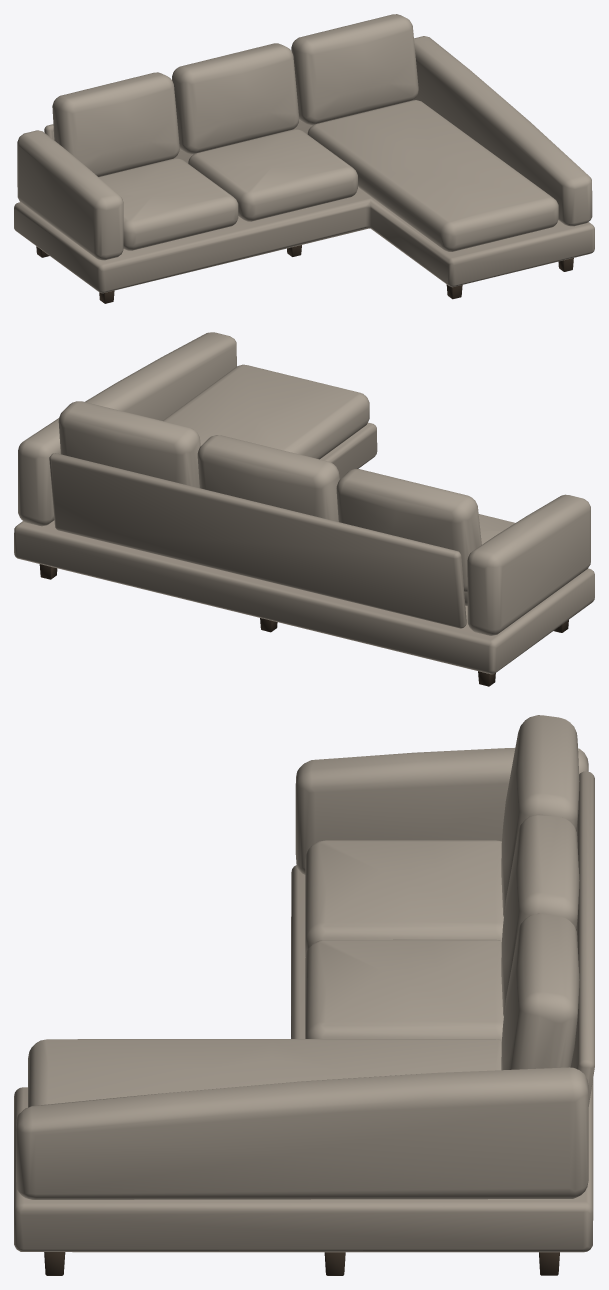
The model's file is sofa-l-shaped.glb.
The picture shows the model from 3 angles, top to bottom: view 1: azimuth 30°, elevation 25°; view 2: azimuth 150°, elevation 25°; view 3: azimuth 270°, elevation 25°; orthographic projection. The views are drawn at different scales.
Parts seen in each view (by area): view 1: EQ_Mobile_sofa-l-shaped_Upholstery, EQ_Mobile_sofa-l-shaped_OakStructure; view 2: EQ_Mobile_sofa-l-shaped_Upholstery, EQ_Mobile_sofa-l-shaped_OakStructure; view 3: EQ_Mobile_sofa-l-shaped_Upholstery, EQ_Mobile_sofa-l-shaped_OakStructure.
Part boxes in pixels (x1,y1,x2,y2): EQ_Mobile_sofa-l-shaped_Upholstery: (14, 14, 594, 293); EQ_Mobile_sofa-l-shaped_OakStructure: (36, 245, 573, 303); EQ_Mobile_sofa-l-shaped_Upholstery: (14, 332, 594, 674); EQ_Mobile_sofa-l-shaped_OakStructure: (39, 564, 568, 686); EQ_Mobile_sofa-l-shaped_Upholstery: (14, 715, 594, 1252); EQ_Mobile_sofa-l-shaped_OakStructure: (44, 1252, 559, 1275).
Size of the model in its own units: 2.6 by 0.916 by 1.84.
